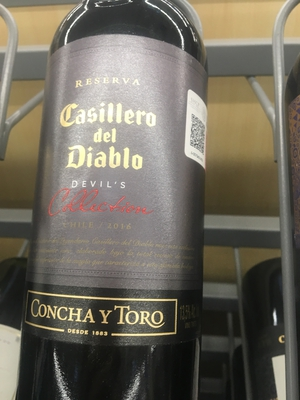casillero del diablo devils collection rojo: (12, 1, 210, 400)
